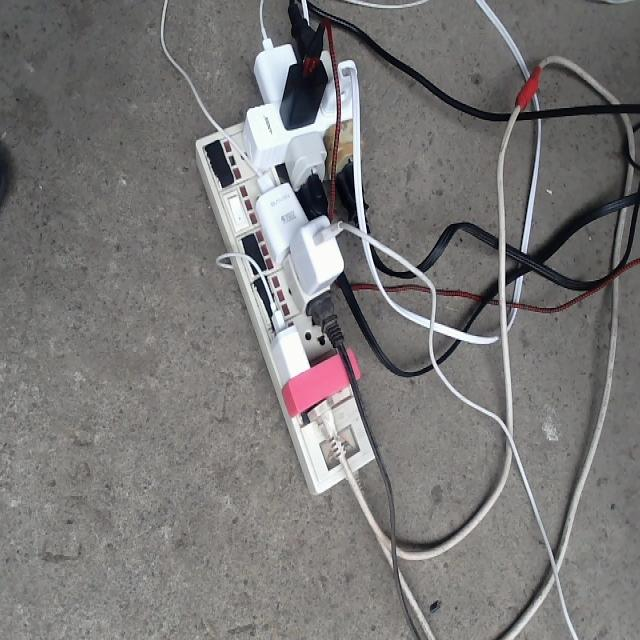-: (195, 16, 373, 497)
